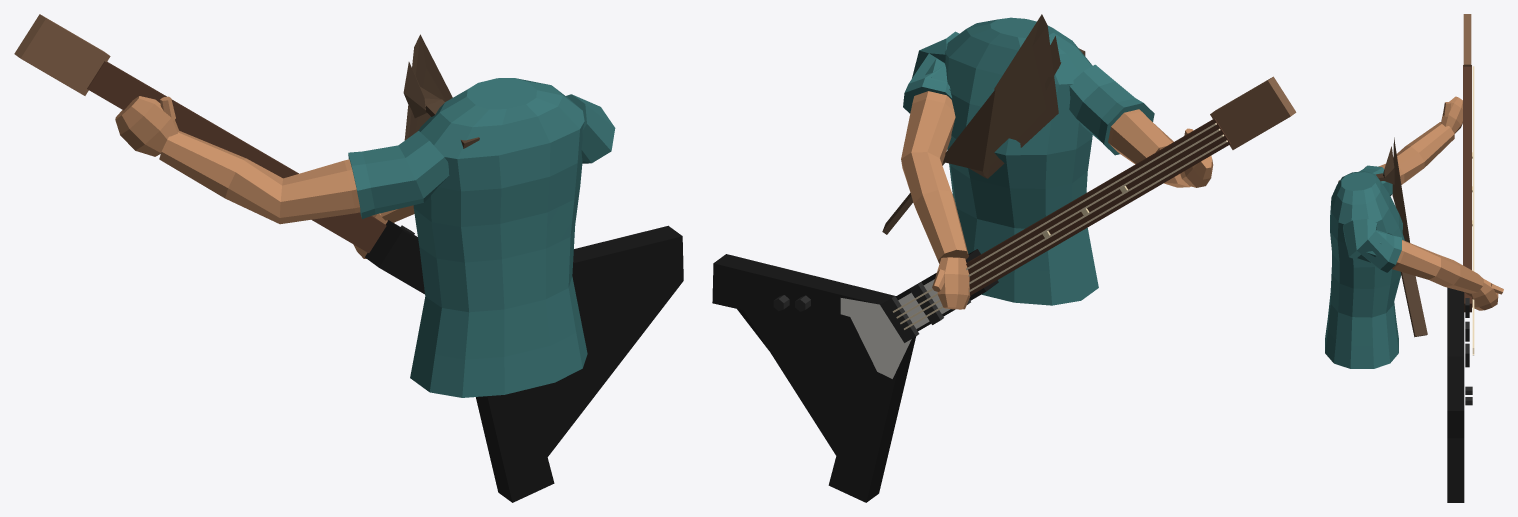
File: lwf_guitarist_female_flyingv_kit_v2.glb
3 renders of one model, left to right at view 1: azimuth 30°, elevation 25°; view 2: azimuth 150°, elevation 25°; view 3: azimuth 270°, elevation 25°, orthographic. The views are drawn at different scales.
Parts seen in each view (by area): view 1: LWF_Guitarist_RightPlayingArm, LWF_Guitarist_FlyingVGuitar, LWF_Guitarist_LeftPlayingArm, LWF_Fitted_LeatherStrap; view 2: LWF_Guitarist_FlyingVGuitar, LWF_Guitarist_RightPlayingArm, LWF_Fitted_LeatherStrap, LWF_Guitarist_LeftPlayingArm; view 3: LWF_Guitarist_RightPlayingArm, LWF_Guitarist_FlyingVGuitar, LWF_Guitarist_LeftPlayingArm, LWF_Fitted_LeatherStrap.
Boxes of the visible parts, x1,y1,x2,y2 form: LWF_Guitarist_RightPlayingArm: [353, 78, 615, 397]; LWF_Guitarist_FlyingVGuitar: [14, 14, 683, 502]; LWF_Guitarist_LeftPlayingArm: [115, 96, 449, 224]; LWF_Fitted_LeatherStrap: [403, 34, 479, 148]; LWF_Guitarist_FlyingVGuitar: [712, 76, 1296, 502]; LWF_Guitarist_RightPlayingArm: [901, 17, 1098, 309]; LWF_Fitted_LeatherStrap: [882, 14, 1085, 234]; LWF_Guitarist_LeftPlayingArm: [1069, 64, 1213, 187]; LWF_Guitarist_RightPlayingArm: [1325, 171, 1503, 368]; LWF_Guitarist_FlyingVGuitar: [1447, 14, 1474, 502]; LWF_Guitarist_LeftPlayingArm: [1359, 96, 1462, 195]; LWF_Fitted_LeatherStrap: [1338, 137, 1427, 337].
Size of the model in its own units: 1.18 by 1.02 by 0.4719.
Materials: 3 (3 with a texture image).
